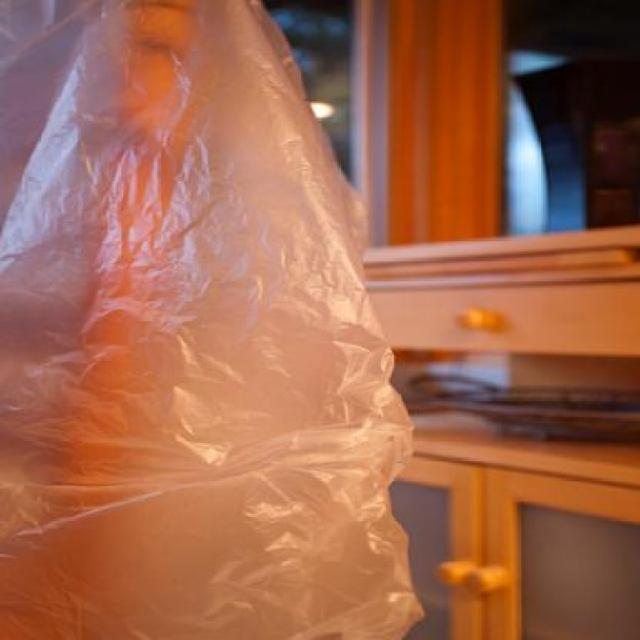plastic bag: (0, 0, 426, 634)
